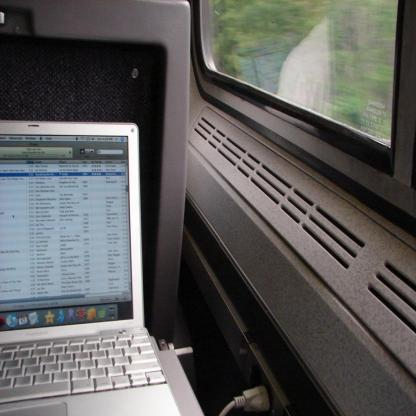board: (0, 118, 188, 416)
